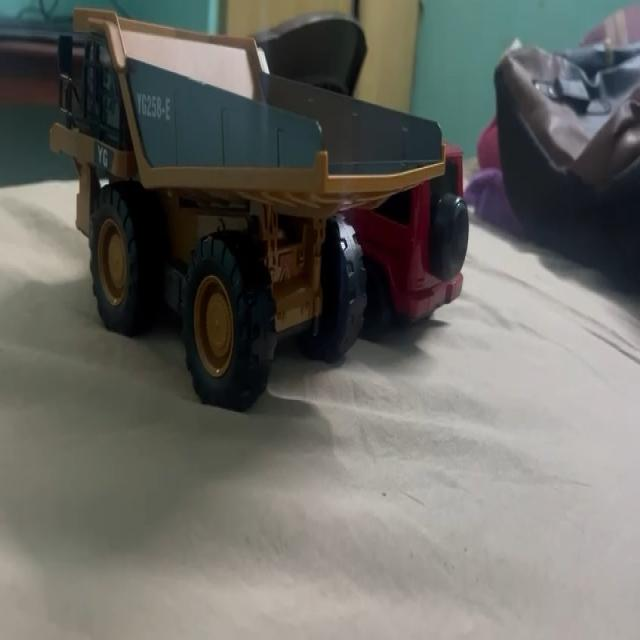dump_truck: (46, 10, 444, 399)
light_vehicle: (382, 200, 478, 332)
